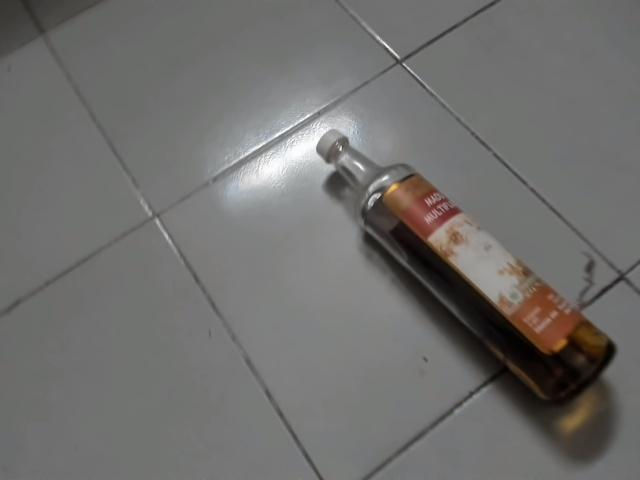botol_kaca: (308, 125, 624, 419)
